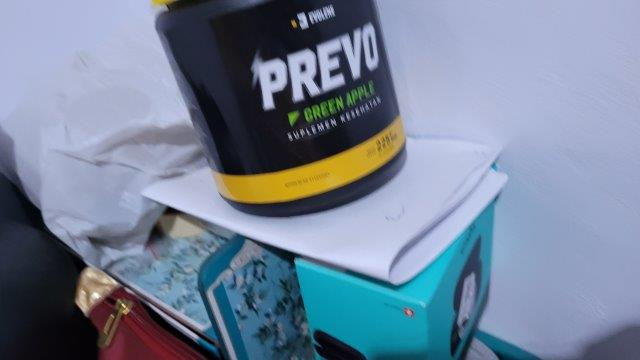kertas: (142, 136, 510, 290)
